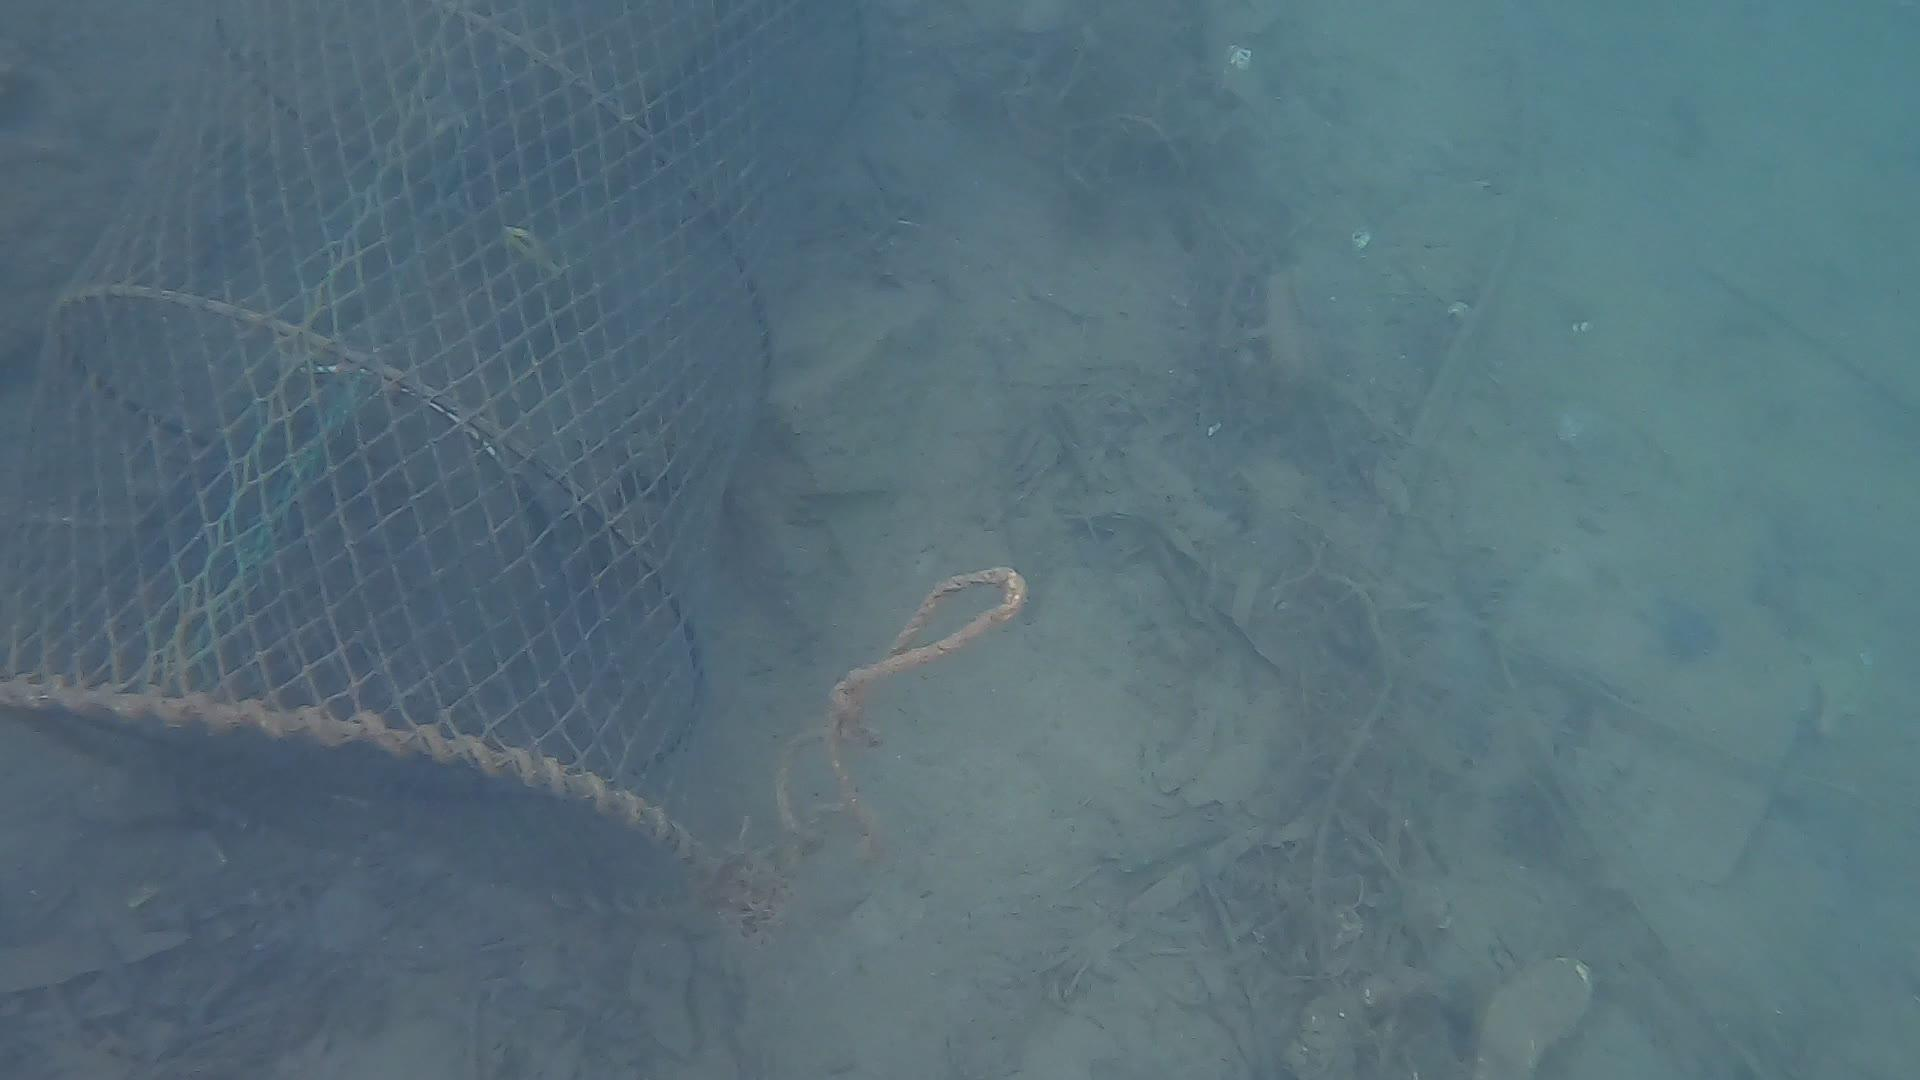bundle of ropes: (723, 556, 1033, 895)
spring fish trap: (0, 0, 872, 910)
